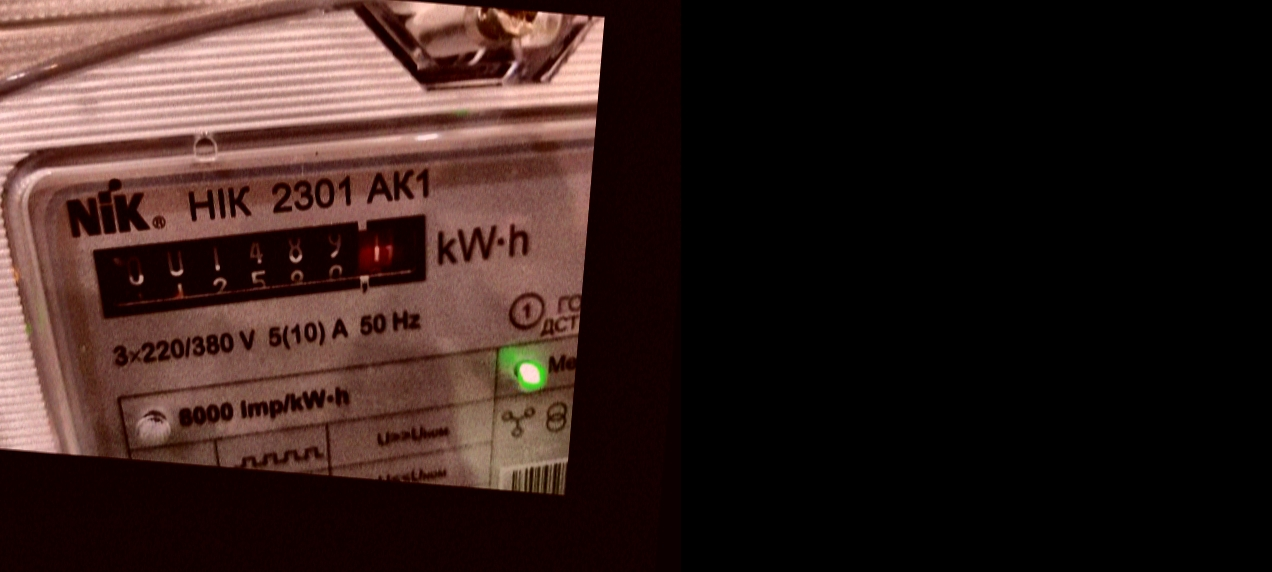0: (158, 242, 187, 280), (119, 253, 146, 290)
1: (363, 227, 385, 266), (203, 242, 226, 274)
4: (242, 235, 266, 267)
8: (282, 230, 306, 268)
9: (322, 227, 344, 261)
screen: (73, 177, 459, 359)
